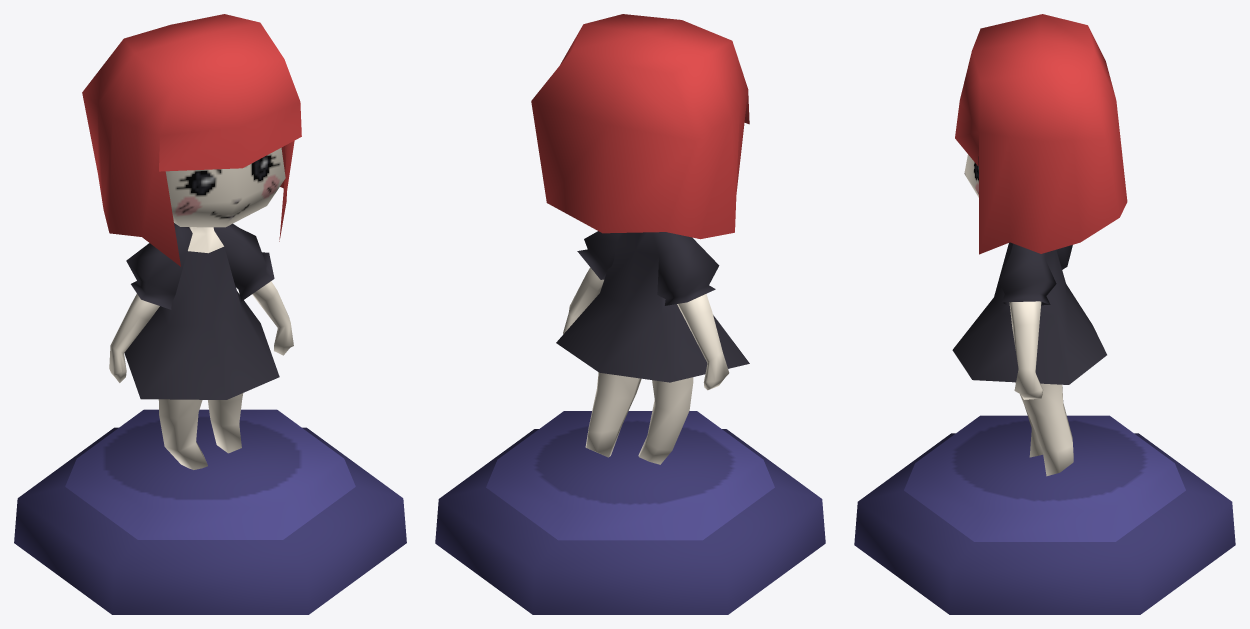
Rendered from low_poly_doll_disco_ballad.glb.
3 views of the same model, side by side, from view 1: azimuth 30°, elevation 25°; view 2: azimuth 150°, elevation 25°; view 3: azimuth 270°, elevation 25° (orthographic). The views are drawn at different scales.
Visible parts, largest first — view 1: Cube.022; view 2: Cube.022; view 3: Cube.022.
Boxes of the visible parts, x1,y1,x2,y2 form: Cube.022: (14,14,406,614); Cube.022: (435,14,825,614); Cube.022: (854,14,1235,614).
Bounding box in the file's own units: 0.889 × 1.48 × 1.03.
6 materials, 6 textured.
